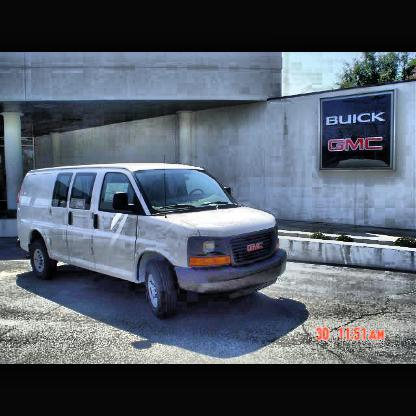GMC Savana Van 2012: (17, 154, 292, 324)
